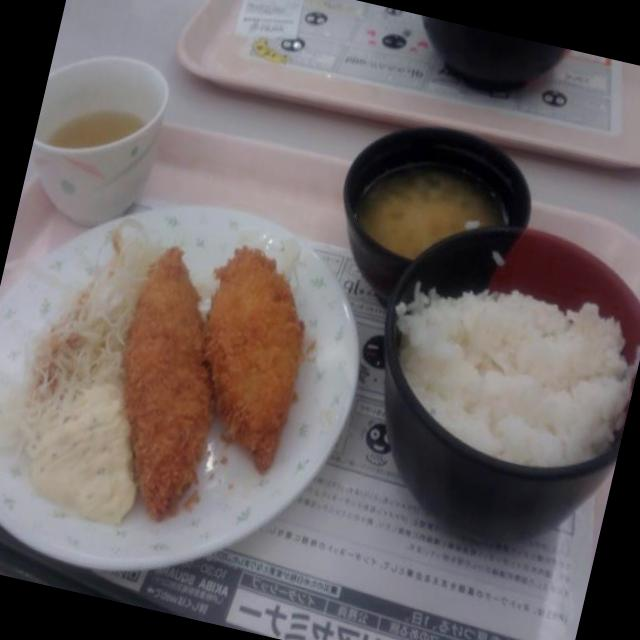Rice: (388, 248, 634, 488)
